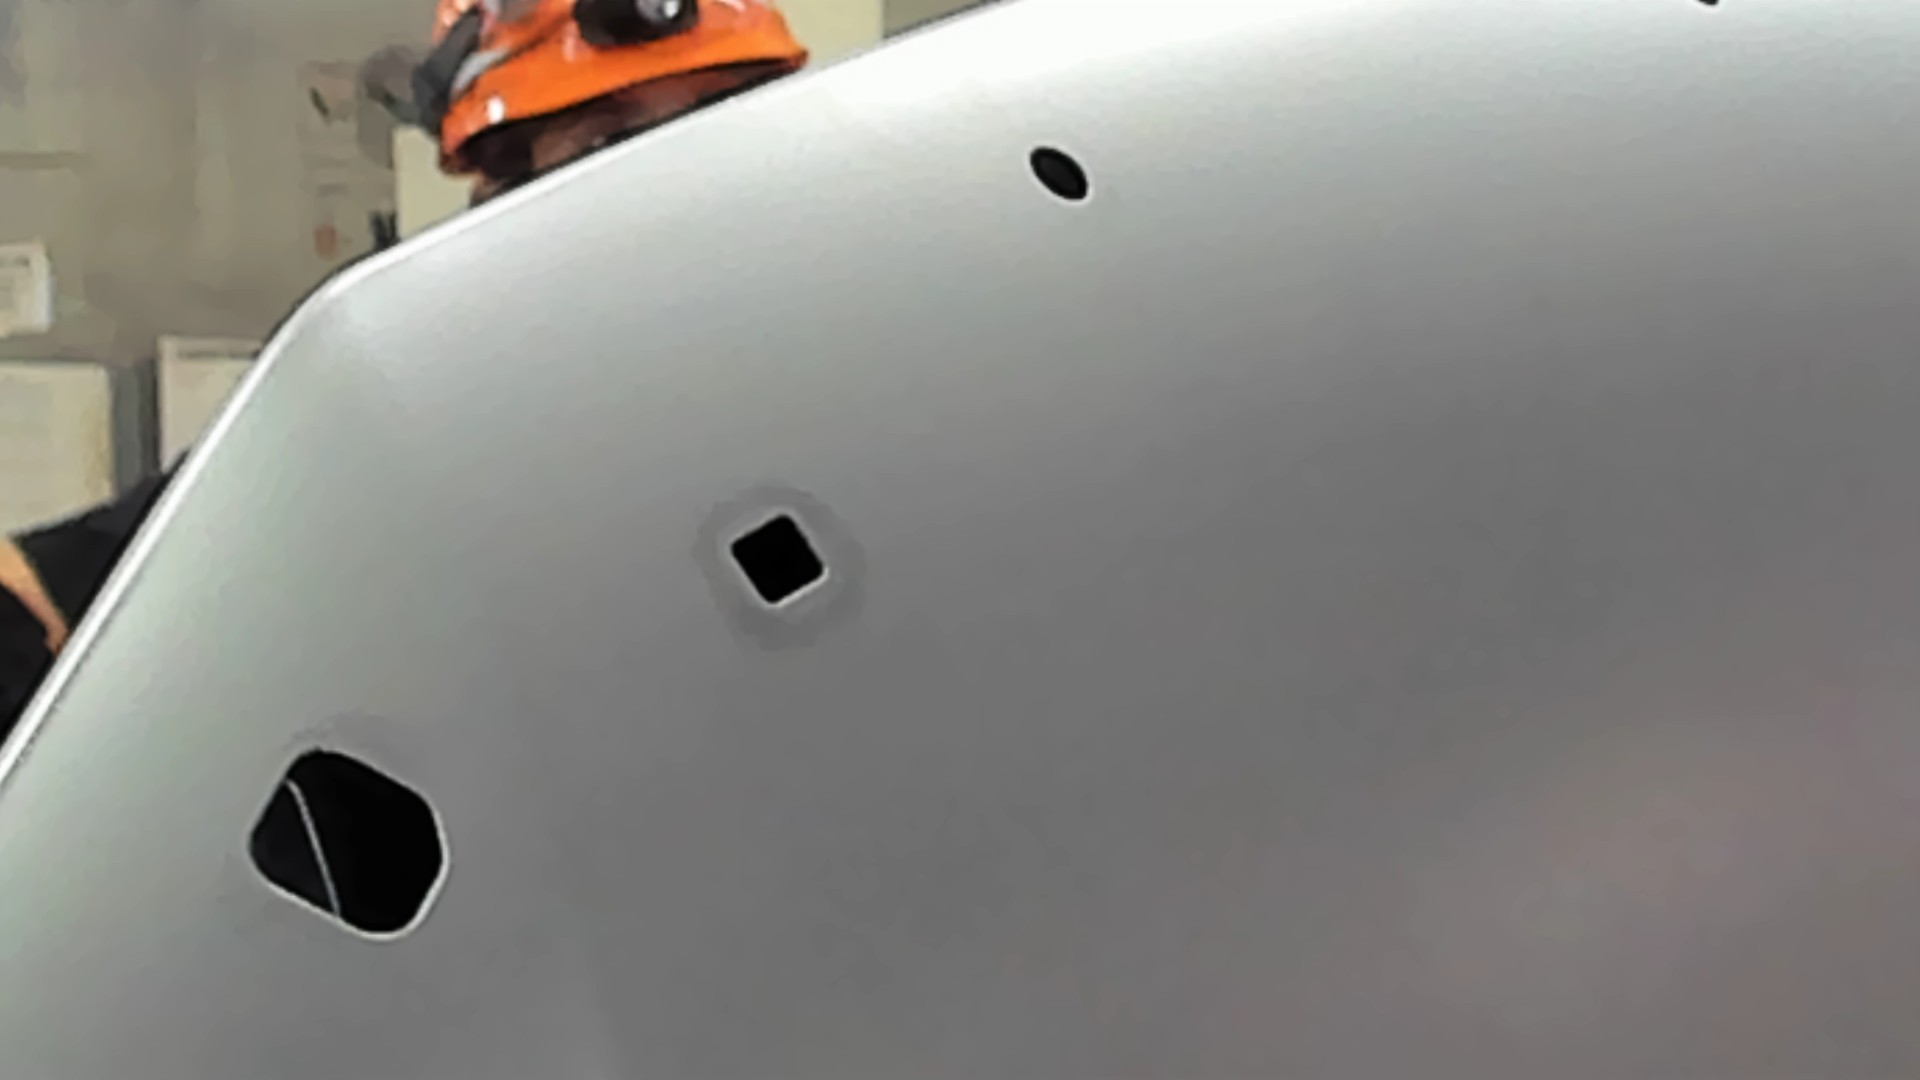chico: (1023, 137, 1093, 211), (1684, 1, 1730, 17)
grande: (239, 740, 451, 949)
mediano: (720, 506, 833, 613)
